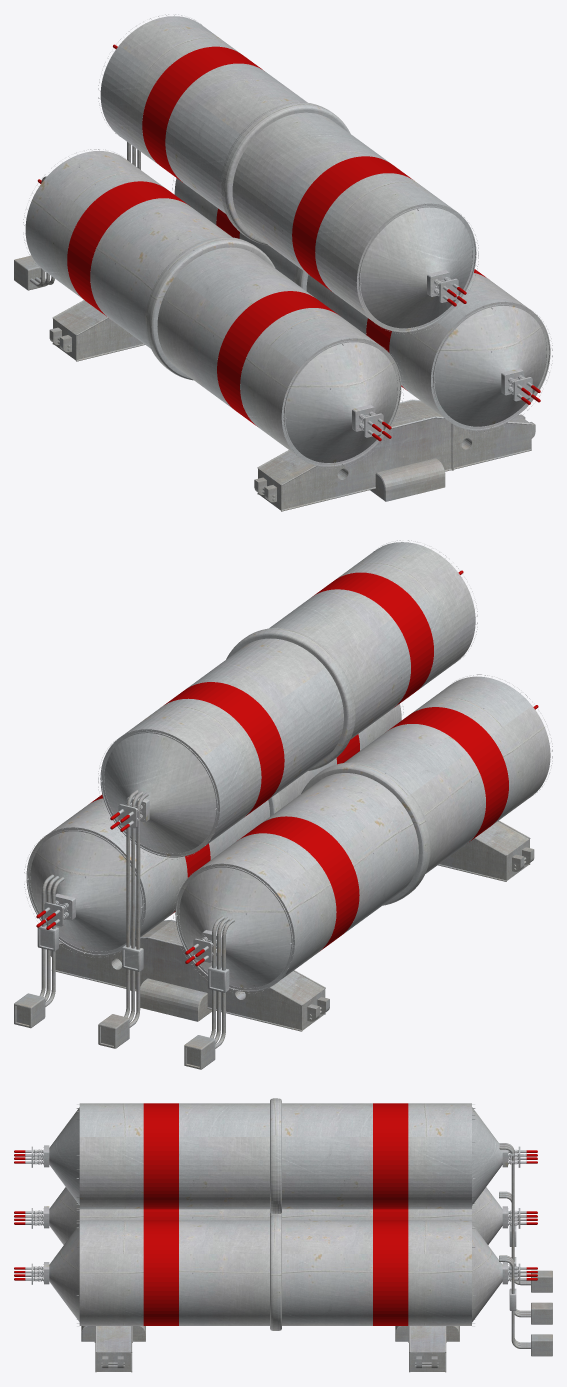
File: guanzizuhe.glb
3 renders of one model, top to bottom at view 1: azimuth 30°, elevation 25°; view 2: azimuth 150°, elevation 25°; view 3: azimuth 270°, elevation 25°, orthographic. The views are drawn at different scales.
Parts seen in each view (by area): view 1: 21-01, 对象016, 对象013, 对象003, 对象006, 对象004, 对象005, 对象014; view 2: 21-01, 对象016, 对象013, 对象015, 对象006, 对象004, 对象003, 对象005, 对象014; view 3: 21-01, 对象016, 对象013, 对象003, 对象004, 对象001, 对象002, 对象014, 对象015, 对象005, 对象006.
Boxes of the visible parts, left/top/right/bottom form: 21-01: left=23, top=14, right=552, bottom=468; 对象016: left=100, top=16, right=476, bottom=332; 对象013: left=49, top=300, right=535, bottom=511; 对象003: left=142, top=46, right=262, bottom=182; 对象006: left=67, top=181, right=189, bottom=316; 对象004: left=292, top=156, right=412, bottom=291; 对象005: left=217, top=291, right=337, bottom=426; 对象014: left=14, top=255, right=45, bottom=290; 21-01: left=24, top=540, right=552, bottom=993; 对象016: left=100, top=542, right=475, bottom=857; 对象013: left=50, top=820, right=534, bottom=1031; 对象015: left=39, top=790, right=234, bottom=1048; 对象006: left=237, top=816, right=359, bottom=950; 对象004: left=312, top=572, right=433, bottom=707; 对象003: left=163, top=682, right=284, bottom=817; 对象005: left=388, top=707, right=508, bottom=841; 对象014: left=14, top=993, right=215, bottom=1069; 21-01: left=25, top=1104, right=526, bottom=1352; 对象016: left=49, top=1098, right=502, bottom=1214; 对象013: left=81, top=1326, right=459, bottom=1372; 对象003: left=373, top=1103, right=408, bottom=1209; 对象004: left=143, top=1103, right=178, bottom=1209; 对象001: left=373, top=1220, right=408, bottom=1325; 对象002: left=143, top=1220, right=178, bottom=1325; 对象014: left=531, top=1270, right=552, bottom=1356; 对象015: left=499, top=1143, right=530, bottom=1348; 对象005: left=143, top=1209, right=178, bottom=1220; 对象006: left=373, top=1209, right=408, bottom=1220.
Bounding box in the file's own units: 0.8341 × 0.8422 × 1.82.
4 materials, 3 textured.
